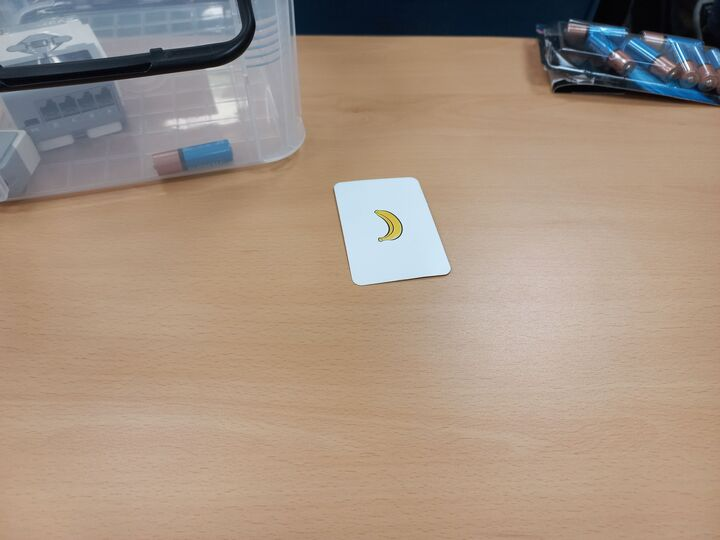banana1: (331, 174, 452, 288)
